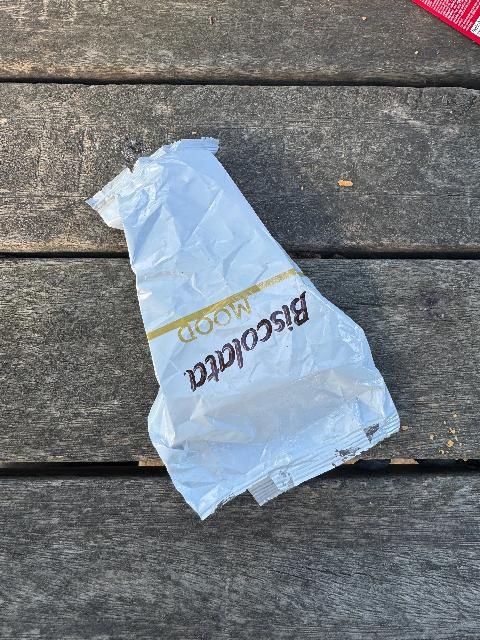Plastik: (84, 135, 411, 529)
